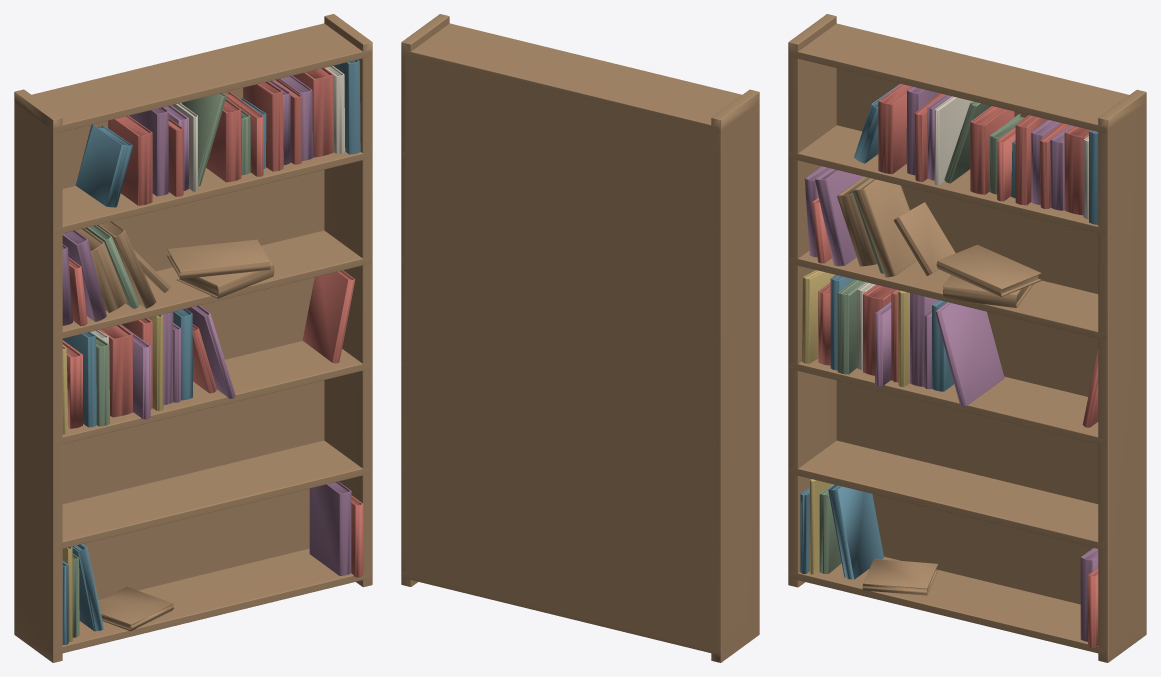
The model's file is book_shelf.glb.
3 renders of one model, left to right at view 1: azimuth 30°, elevation 25°; view 2: azimuth 150°, elevation 25°; view 3: azimuth 330°, elevation 25°, orthographic.
Visible parts, largest first — view 1: book_shelf__Shelf_Back, book_shelf__Shelf_Left_board, book_shelf__Shelf_Right_board, book_shelf__Shelf_Top_board, book_shelf__Shelf_board_4, book_shelf__Shelf_board_5, book_shelf__Shelf_board_3, book_shelf__Shelf_board_2, book_shelf__Shelf_board_1, book_shelf__Book44, book_shelf__Book15, book_shelf__Book42 (+42 smaller); view 2: book_shelf__Shelf_Back, book_shelf__Shelf_Left_board, book_shelf__Shelf_Top_board, book_shelf__Shelf_Right_board, book_shelf__Shelf_board_5; view 3: book_shelf__Shelf_Back, book_shelf__Shelf_Right_board, book_shelf__Shelf_Left_board, book_shelf__Shelf_Top_board, book_shelf__Shelf_board_4, book_shelf__Shelf_board_5, book_shelf__Shelf_board_3, book_shelf__Shelf_board_2, book_shelf__Shelf_board_1, book_shelf__Book39, book_shelf__Book49, book_shelf__Book5 (+42 smaller).
Part boxes in pixels (x1,y1,x2,y2): book_shelf__Shelf_Back: (62,88,324,599); book_shelf__Shelf_Left_board: (14,89,62,662); book_shelf__Shelf_Right_board: (324,14,372,587); book_shelf__Shelf_Top_board: (32,23,371,133); book_shelf__Shelf_board_4: (54,440,371,550); book_shelf__Shelf_board_5: (54,548,371,654); book_shelf__Shelf_board_3: (54,341,371,445); book_shelf__Shelf_board_2: (54,230,371,340); book_shelf__Shelf_board_1: (54,152,371,234); book_shelf__Book44: (309,481,351,575); book_shelf__Book15: (302,270,355,363); book_shelf__Book42: (75,124,132,207); book_shelf__Shelf_Back: (406,55,716,650); book_shelf__Shelf_Left_board: (711,89,759,662); book_shelf__Shelf_Top_board: (402,23,742,133); book_shelf__Shelf_Right_board: (401,14,449,586); book_shelf__Shelf_board_5: (402,571,719,654); book_shelf__Shelf_Back: (836,68,1098,604); book_shelf__Shelf_Right_board: (1098,89,1146,662); book_shelf__Shelf_Left_board: (788,14,836,587); book_shelf__Shelf_Top_board: (789,23,1128,133); book_shelf__Shelf_board_4: (789,440,1106,550); book_shelf__Shelf_board_5: (789,556,1106,654); book_shelf__Shelf_board_3: (789,359,1106,445); book_shelf__Shelf_board_2: (789,251,1106,340); book_shelf__Shelf_board_1: (789,125,1106,235); book_shelf__Book39: (935,302,1004,406); book_shelf__Book49: (828,484,883,579); book_shelf__Book5: (854,178,916,277).
Bounding box in the file's own units: 1.11 × 1.8 × 0.2694.
